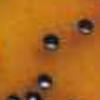black: (78, 16, 95, 36), (37, 73, 53, 91), (43, 34, 57, 51), (24, 90, 45, 100), (5, 94, 19, 100)
